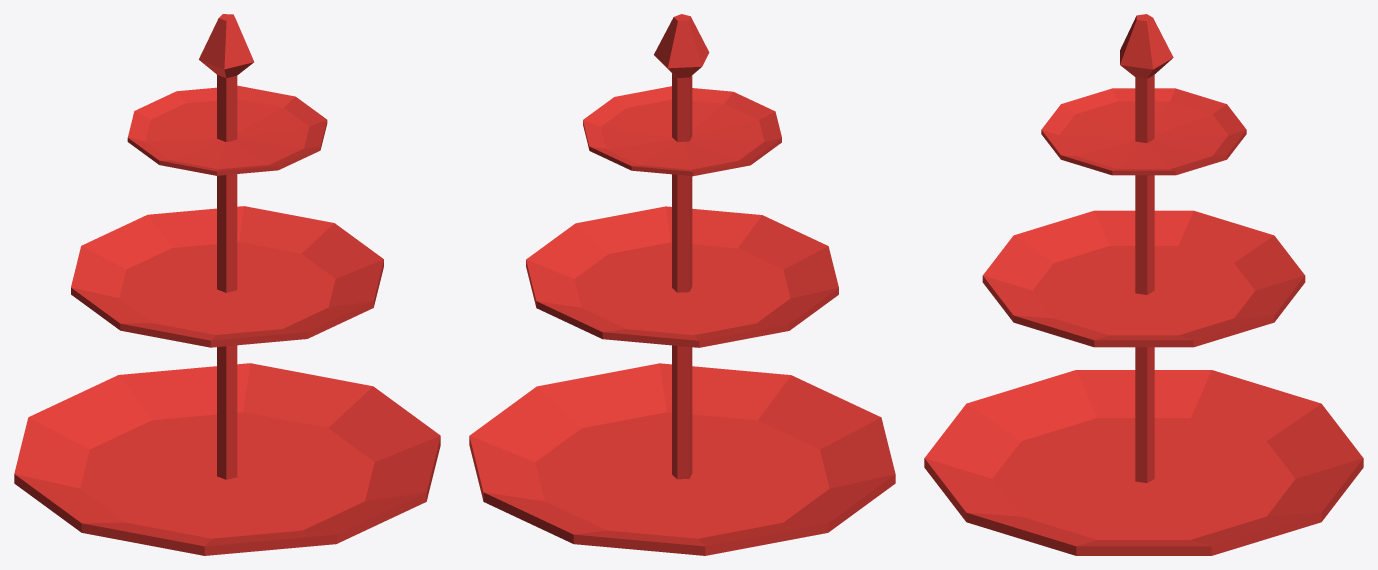
Rendered from SM_Etagere_Christmas.fbx.
3 renders of one model, left to right at view 1: azimuth 30°, elevation 25°; view 2: azimuth 150°, elevation 25°; view 3: azimuth 270°, elevation 25°, orthographic.
Parts seen in each view (by area): view 1: etagere-christmas; view 2: etagere-christmas; view 3: etagere-christmas.
Part boxes in pixels (x1,y1,x2,y2): etagere-christmas: (14,14,440,555); etagere-christmas: (469,14,895,555); etagere-christmas: (924,14,1363,555).
Size of the model in its own units: 0.2995 by 0.3728 by 0.315.
